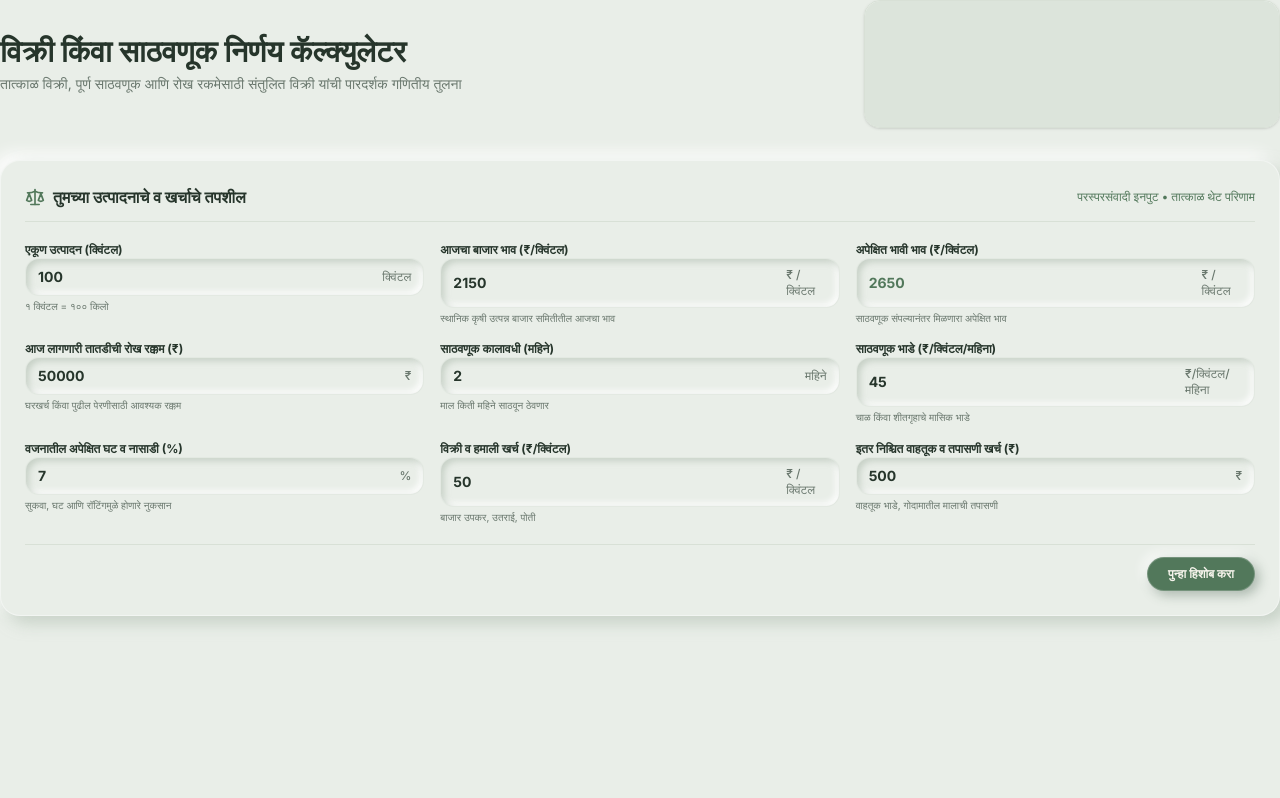
CalculatorPage › TC-CALC-01 & TC-CALC-02: Renders calculator and displays 3-strategy evaluation results
The image size is (1280, 798).
Expected: the heading "विक्री किंवा साठवणूक निर्णय कॅल्क्युलेटर" is shown, top-left (0, 33), bottom-right (406, 69)
// Trigger calculation
Step 1. Click the button "पुन्हा हिशोब करा" → (1201, 574), box top-left (1147, 557), bottom-right (1255, 591)
(page scrolled)
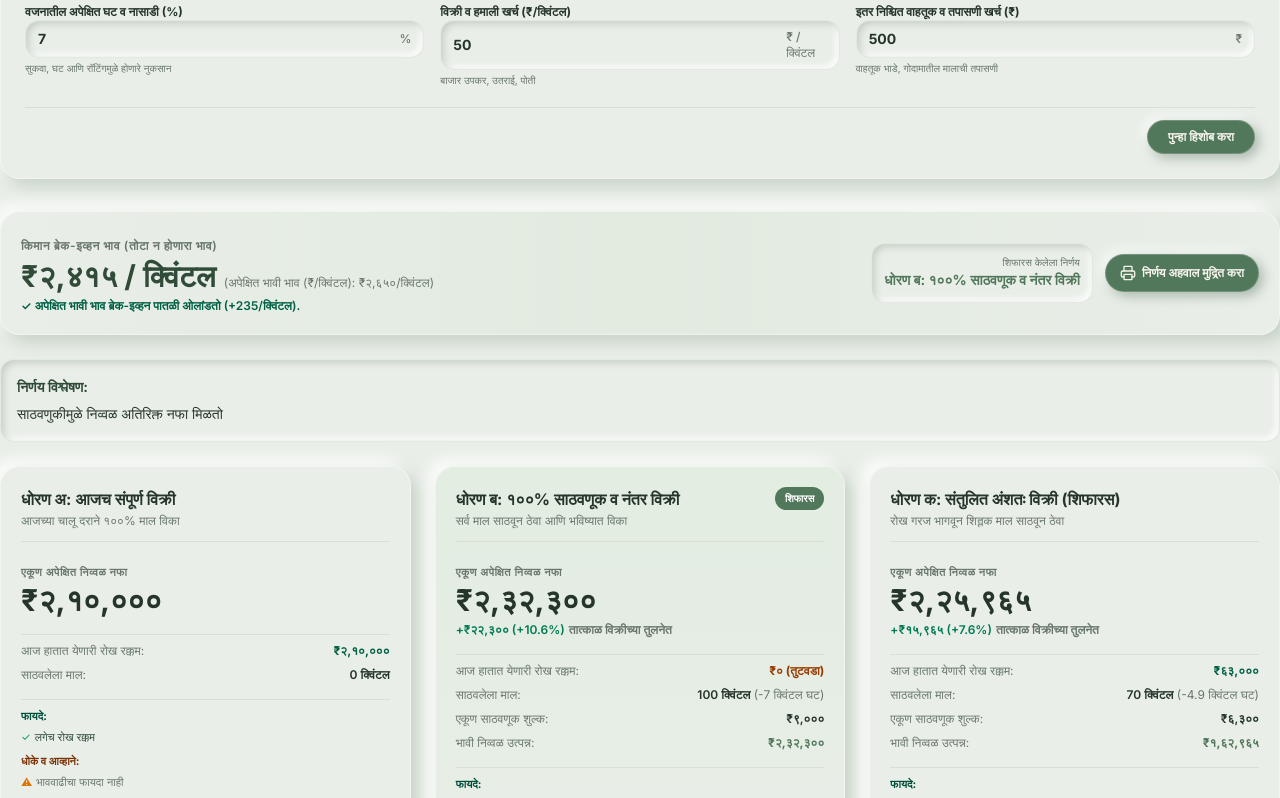
Expected: the 1st text "₹२,३२,३००" is shown, top-left (456, 582), bottom-right (596, 618)
Expected: the 1st text "₹२,१०,०००" is shown, top-left (21, 582), bottom-right (162, 618)
Expected: the text "निर्णय विश्लेषण: साठवणुकीमुळे निव्वळ अतिरिक्त नफा मिळतो" is shown, top-left (0, 359), bottom-right (1279, 442)
